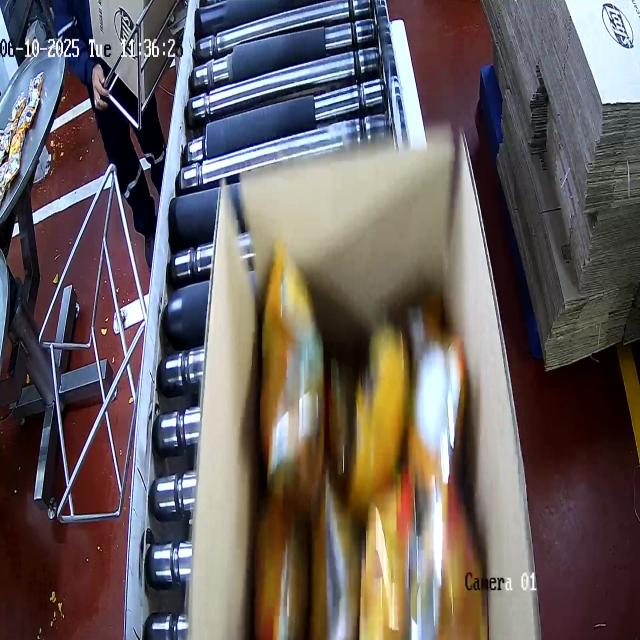FRENCH_CHEESE: (244, 245, 487, 640)
